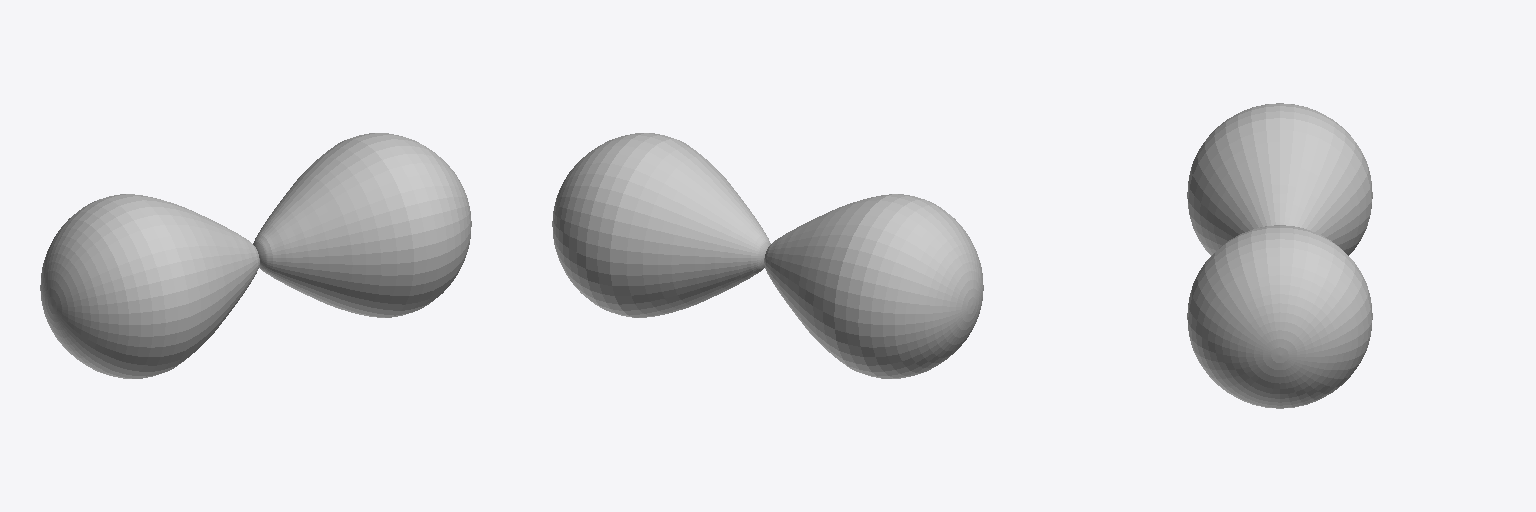
The picture shows the model from 3 angles: view 1: azimuth 30°, elevation 25°; view 2: azimuth 150°, elevation 25°; view 3: azimuth 270°, elevation 25°; orthographic projection.
Parts seen in each view (by area): view 1: b:Dgui b:polySurface25 b:polySurface1; view 2: b:Dgui b:polySurface25 b:polySurface1; view 3: b:Dgui b:polySurface25 b:polySurface1.
Boxes of the visible parts, x1=… form: b:Dgui b:polySurface25 b:polySurface1: x1=40, y1=133, x2=471, y2=378; b:Dgui b:polySurface25 b:polySurface1: x1=552, y1=133, x2=983, y2=378; b:Dgui b:polySurface25 b:polySurface1: x1=1187, y1=103, x2=1372, y2=408.
Size of the model in its own units: 55.07 by 21.7 by 21.7.